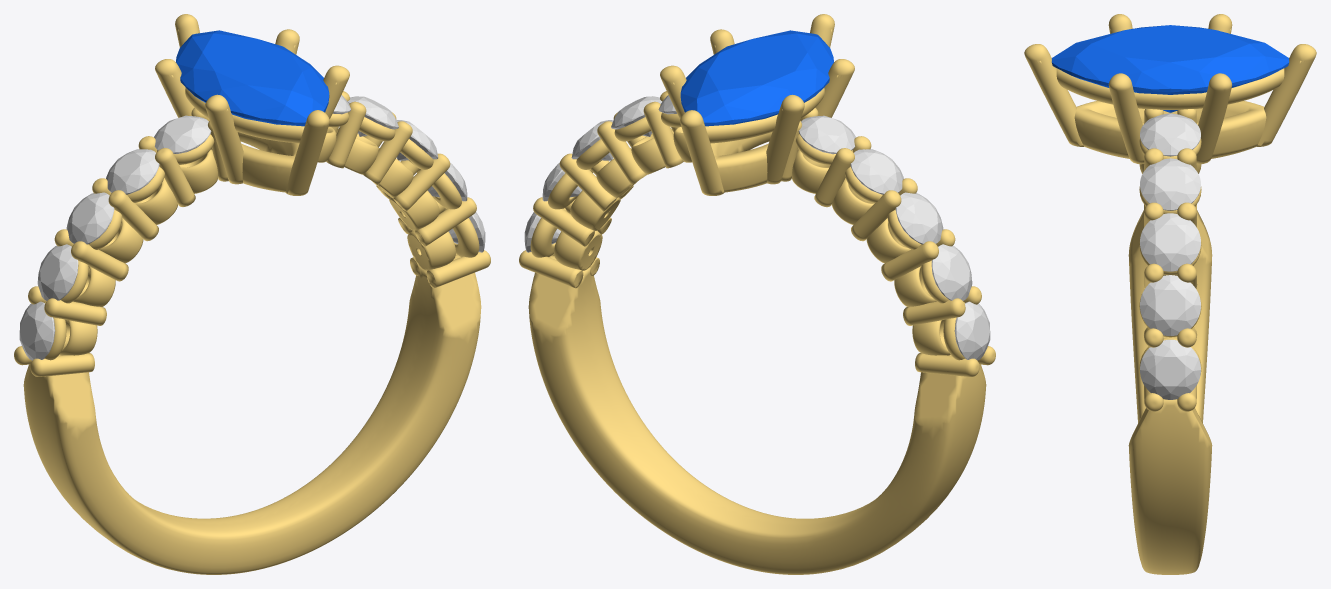
Rendered from bluesapphire-marquise-yellowgold-6prong-straighttaperedband-11stone.glb.
3 views of the same model, side by side, from view 1: azimuth 30°, elevation 25°; view 2: azimuth 150°, elevation 25°; view 3: azimuth 270°, elevation 25° (orthographic).
Visible parts, largest first — view 1: metal.001, stone.001, dia.014, dia.015, dia.013, dia.001, dia.016, dia.020; view 2: metal.001, stone.001, dia.014, dia.015, dia.013, dia.001, dia.016, dia.020; view 3: metal.001, stone.001, dia.018, dia.017, dia.019, dia.020, dia.021.
Part boxes in pixels (x1,y1,x2,y2): metal.001: (14,14,490,574); stone.001: (176,30,329,126); dia.014: (66,192,114,244); dia.015: (106,149,159,194); dia.013: (37,244,78,300); dia.001: (19,301,55,360); dia.016: (154,115,211,153); dia.020: (347,96,398,136); metal.001: (519,14,995,574); stone.001: (680,30,833,126); dia.014: (895,192,943,244); dia.015: (850,149,903,194); dia.013: (931,244,972,300); dia.001: (954,301,990,360); dia.016: (798,115,855,154); dia.020: (611,96,662,136); metal.001: (1024,14,1316,574); stone.001: (1051,25,1289,112); dia.018: (1140,275,1200,335); dia.017: (1140,339,1200,399); dia.019: (1140,213,1200,271); dia.020: (1140,158,1200,210); dia.021: (1140,113,1200,156).
Size of the model in its own units: 21.88 by 22.94 by 11.96.
